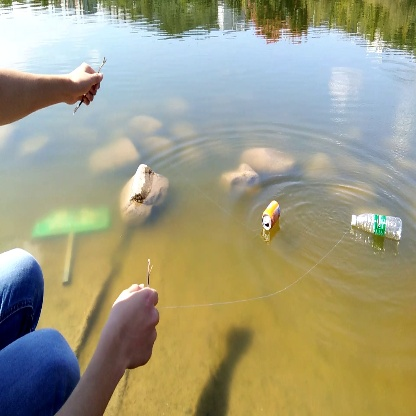bottle: (346, 210, 407, 246), (256, 196, 282, 236)
